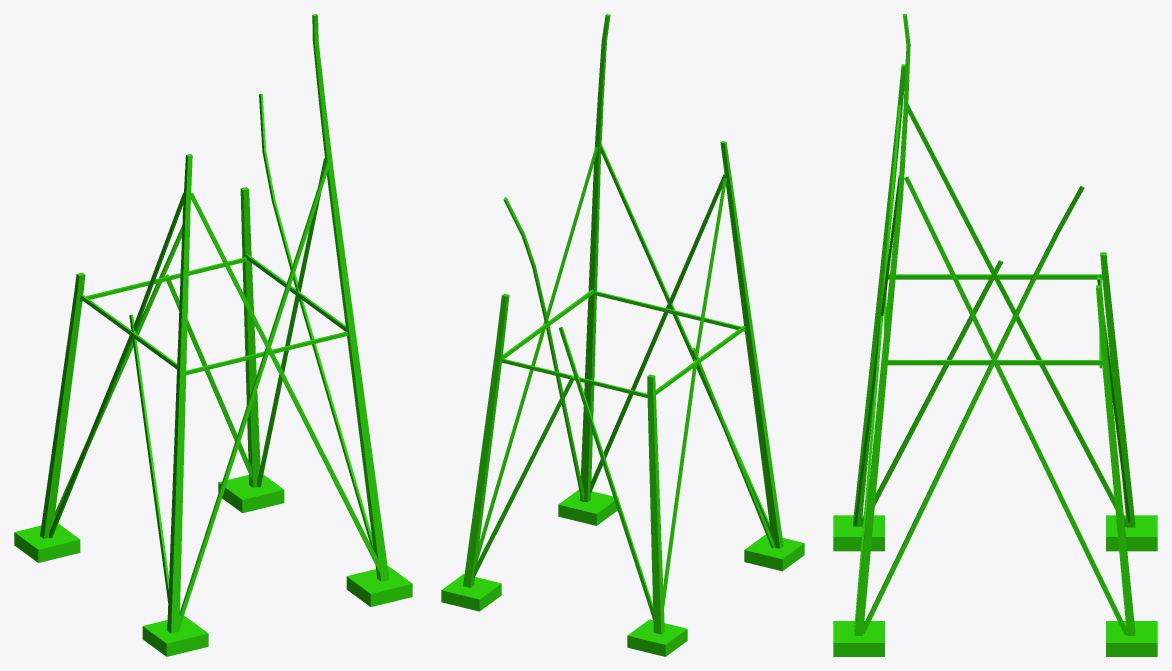
File: Overhead_Power_Line_BreakA_Lod0.fbx
3 views of the same model, side by side, from view 1: azimuth 30°, elevation 25°; view 2: azimuth 150°, elevation 25°; view 3: azimuth 270°, elevation 25° (orthographic). The views are drawn at different scales.
Visible parts, largest first — view 1: Overhead_Power_Line_BreakA_Lod0; view 2: Overhead_Power_Line_BreakA_Lod0; view 3: Overhead_Power_Line_BreakA_Lod0.
Boxes of the visible parts, x1,y1,x2,y2 form: Overhead_Power_Line_BreakA_Lod0: (14,14,412,656); Overhead_Power_Line_BreakA_Lod0: (441,14,804,656); Overhead_Power_Line_BreakA_Lod0: (833,14,1157,656).
Bounding box in the file's own units: 1011 × 2250 × 1086.
